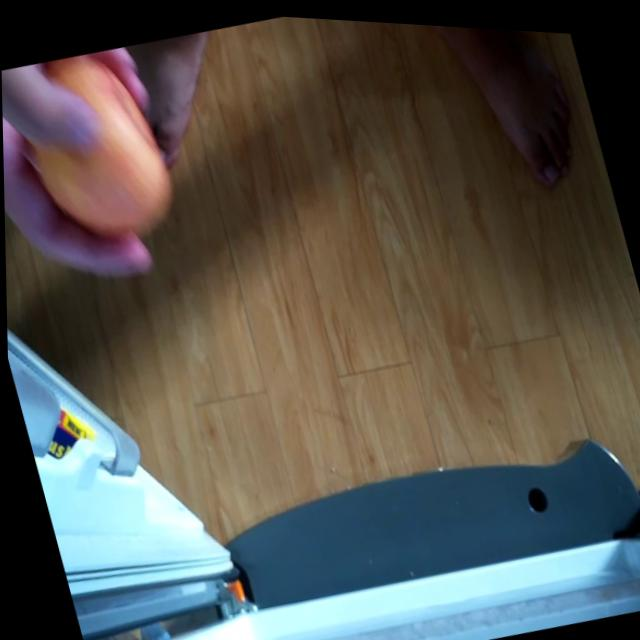apple: (1, 47, 182, 253)
